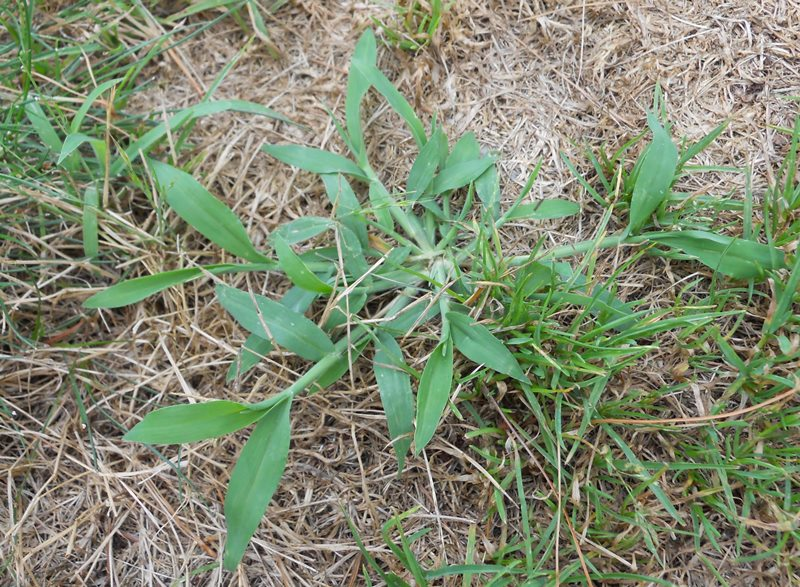crabgrass: (148, 82, 551, 447)
